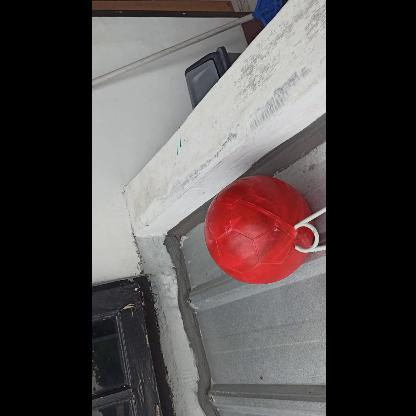red_ball: (204, 178, 310, 286)
